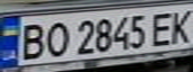2: (72, 17, 96, 55)
4: (112, 14, 133, 52)
5: (127, 11, 151, 50)
8: (93, 15, 115, 53)
B: (12, 20, 51, 61)
E: (148, 10, 178, 47)
K: (166, 6, 193, 44)
O: (39, 19, 72, 58)
